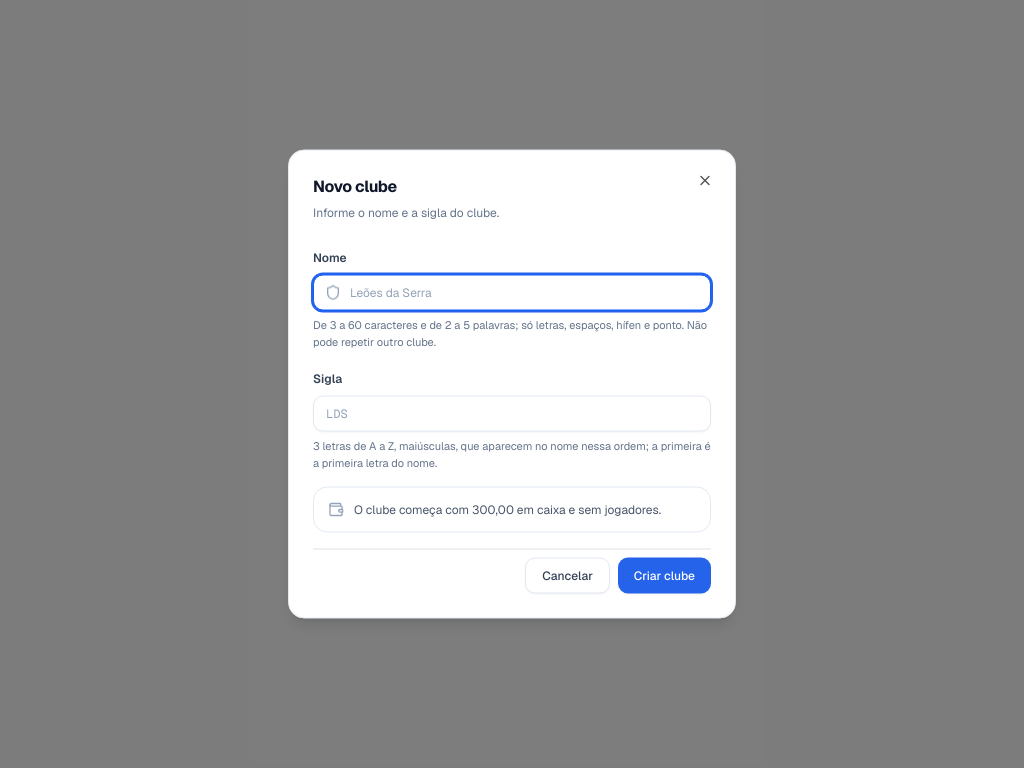
Test case: ClubCreateDialog Component (Figma node 54-139627) › validates required fields on empty submit
Click the button "Criar clube".
click(664, 576)  # box top-left (618, 558), bottom-right (711, 594)
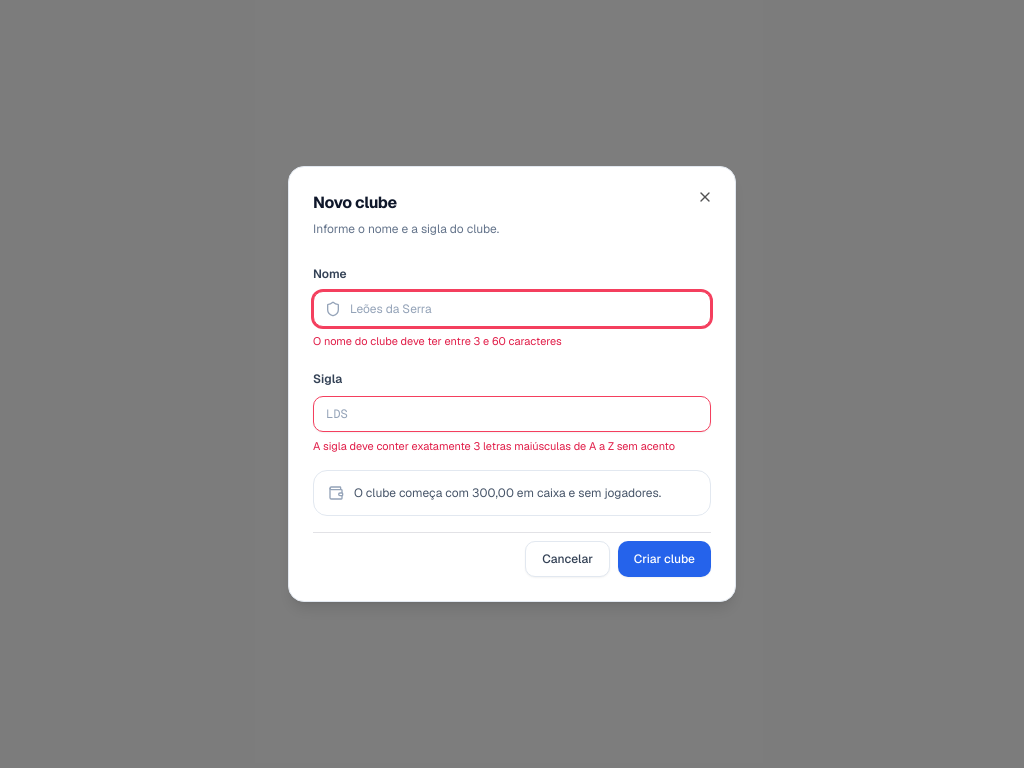
Expected: the text "O nome do clube deve ter entre 3 e 60 caracteres" is shown, top-left (313, 334), bottom-right (562, 348)
